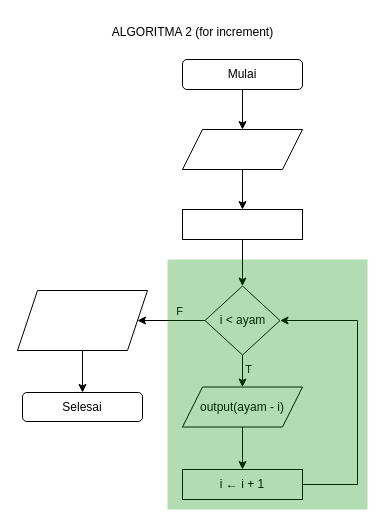
Image size: 385x526. Some labels were removed from this diagram. The centre of each missing label's shape, as x and y in pixels:
i ← 0: point (242, 224)
input(ayam): point (242, 149)
output("mati satu tinggal induknya"): point (82, 320)
